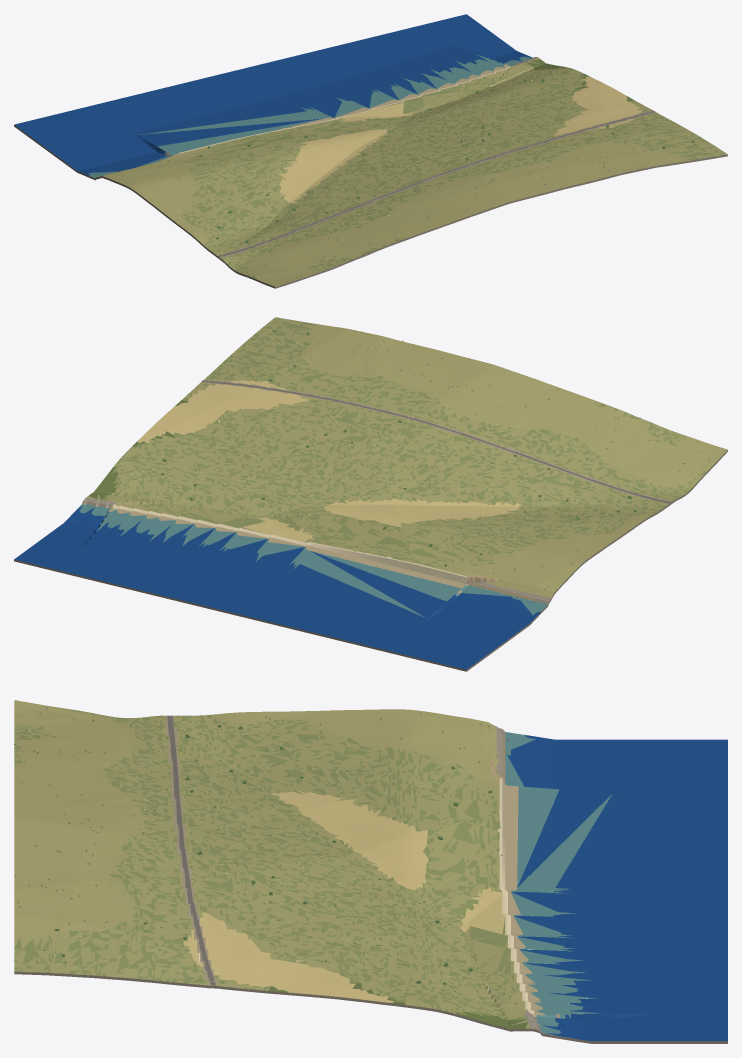
File: parca_+1_+2-yakin.glb
3 views of the same model, one above another, from view 1: azimuth 30°, elevation 25°; view 2: azimuth 150°, elevation 25°; view 3: azimuth 270°, elevation 25° (orthographic). The views are drawn at different scales.
Visible parts, largest first — view 1: parca_+1_+2_arazi, parca_+1_+2_yollar, parca_+1_+2_bitkiler; view 2: parca_+1_+2_arazi, parca_+1_+2_yollar, parca_+1_+2_bitkiler; view 3: parca_+1_+2_arazi, parca_+1_+2_yollar, parca_+1_+2_bitkiler.
Boxes of the visible parts, x1=… form: parca_+1_+2_arazi: x1=14, y1=14, x2=727, y2=288; parca_+1_+2_yollar: x1=217, y1=111, x2=655, y2=257; parca_+1_+2_bitkiler: x1=109, y1=68, x2=695, y2=279; parca_+1_+2_arazi: x1=14, y1=317, x2=727, y2=671; parca_+1_+2_yollar: x1=202, y1=380, x2=671, y2=503; parca_+1_+2_bitkiler: x1=123, y1=328, x2=709, y2=589; parca_+1_+2_arazi: x1=14, y1=700, x2=727, y2=1043; parca_+1_+2_yollar: x1=167, y1=715, x2=215, y2=985; parca_+1_+2_bitkiler: x1=14, y1=707, x2=533, y2=1019.
Bounding box in the file's own units: 1001 × 129 × 1000.
